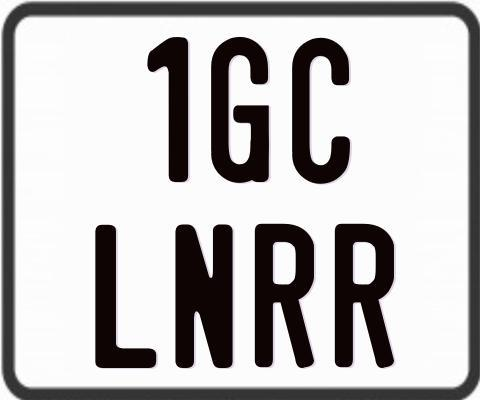1: (144, 34, 185, 182)
C: (292, 35, 356, 185)
G: (210, 34, 268, 183)
L: (93, 224, 160, 370)
N: (173, 221, 232, 366)
R: (255, 221, 319, 365), (333, 224, 395, 372)
